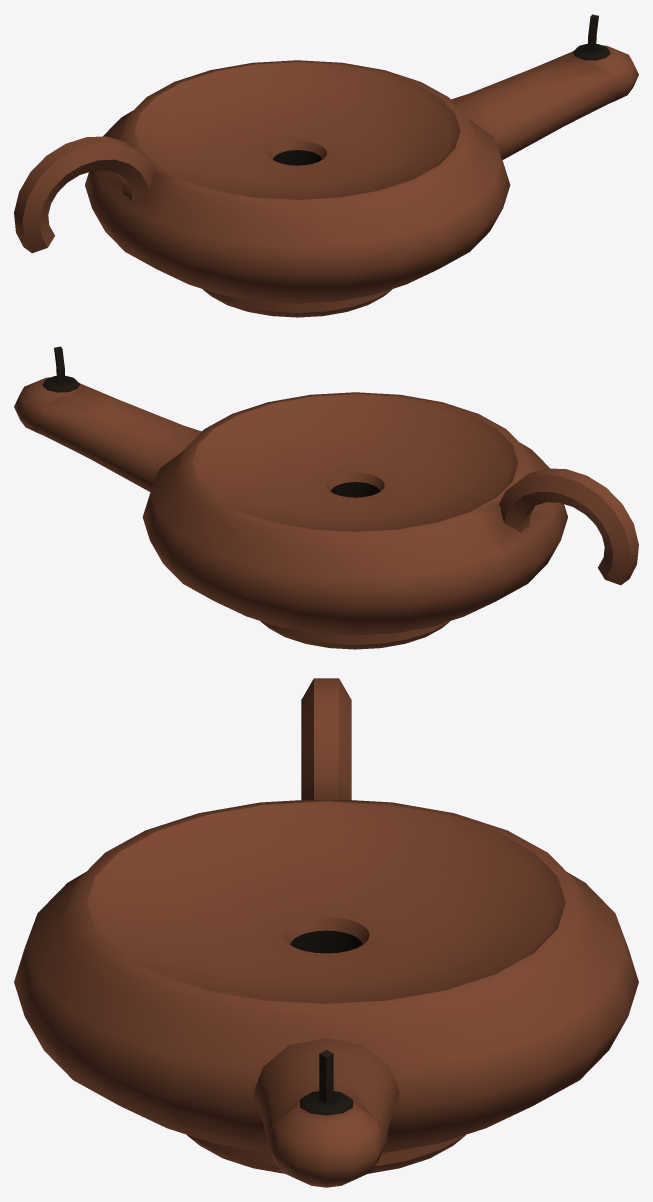
The model's file is lamp-oil.glb.
3 views of the same model, one above another, from view 1: azimuth 30°, elevation 25°; view 2: azimuth 150°, elevation 25°; view 3: azimuth 270°, elevation 25° (orthographic). The views are drawn at different scales.
Visible parts, largest first — view 1: base; view 2: base; view 3: base.
Part boxes in pixels (x1=…): base: x1=14, y1=14, x2=638, y2=317; base: x1=14, y1=346, x2=638, y2=649; base: x1=14, y1=678, x2=638, y2=1187.
Bounding box in the file's own units: 0.157 × 0.0456 × 0.094.
